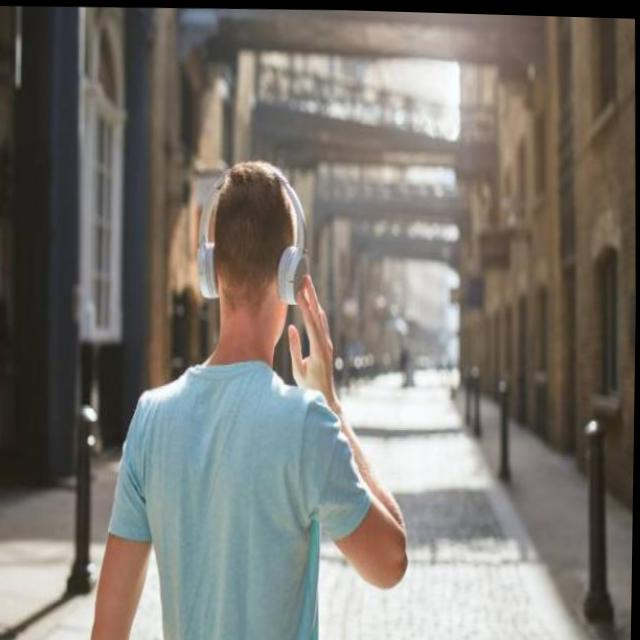no helmet: (155, 117, 345, 403)
